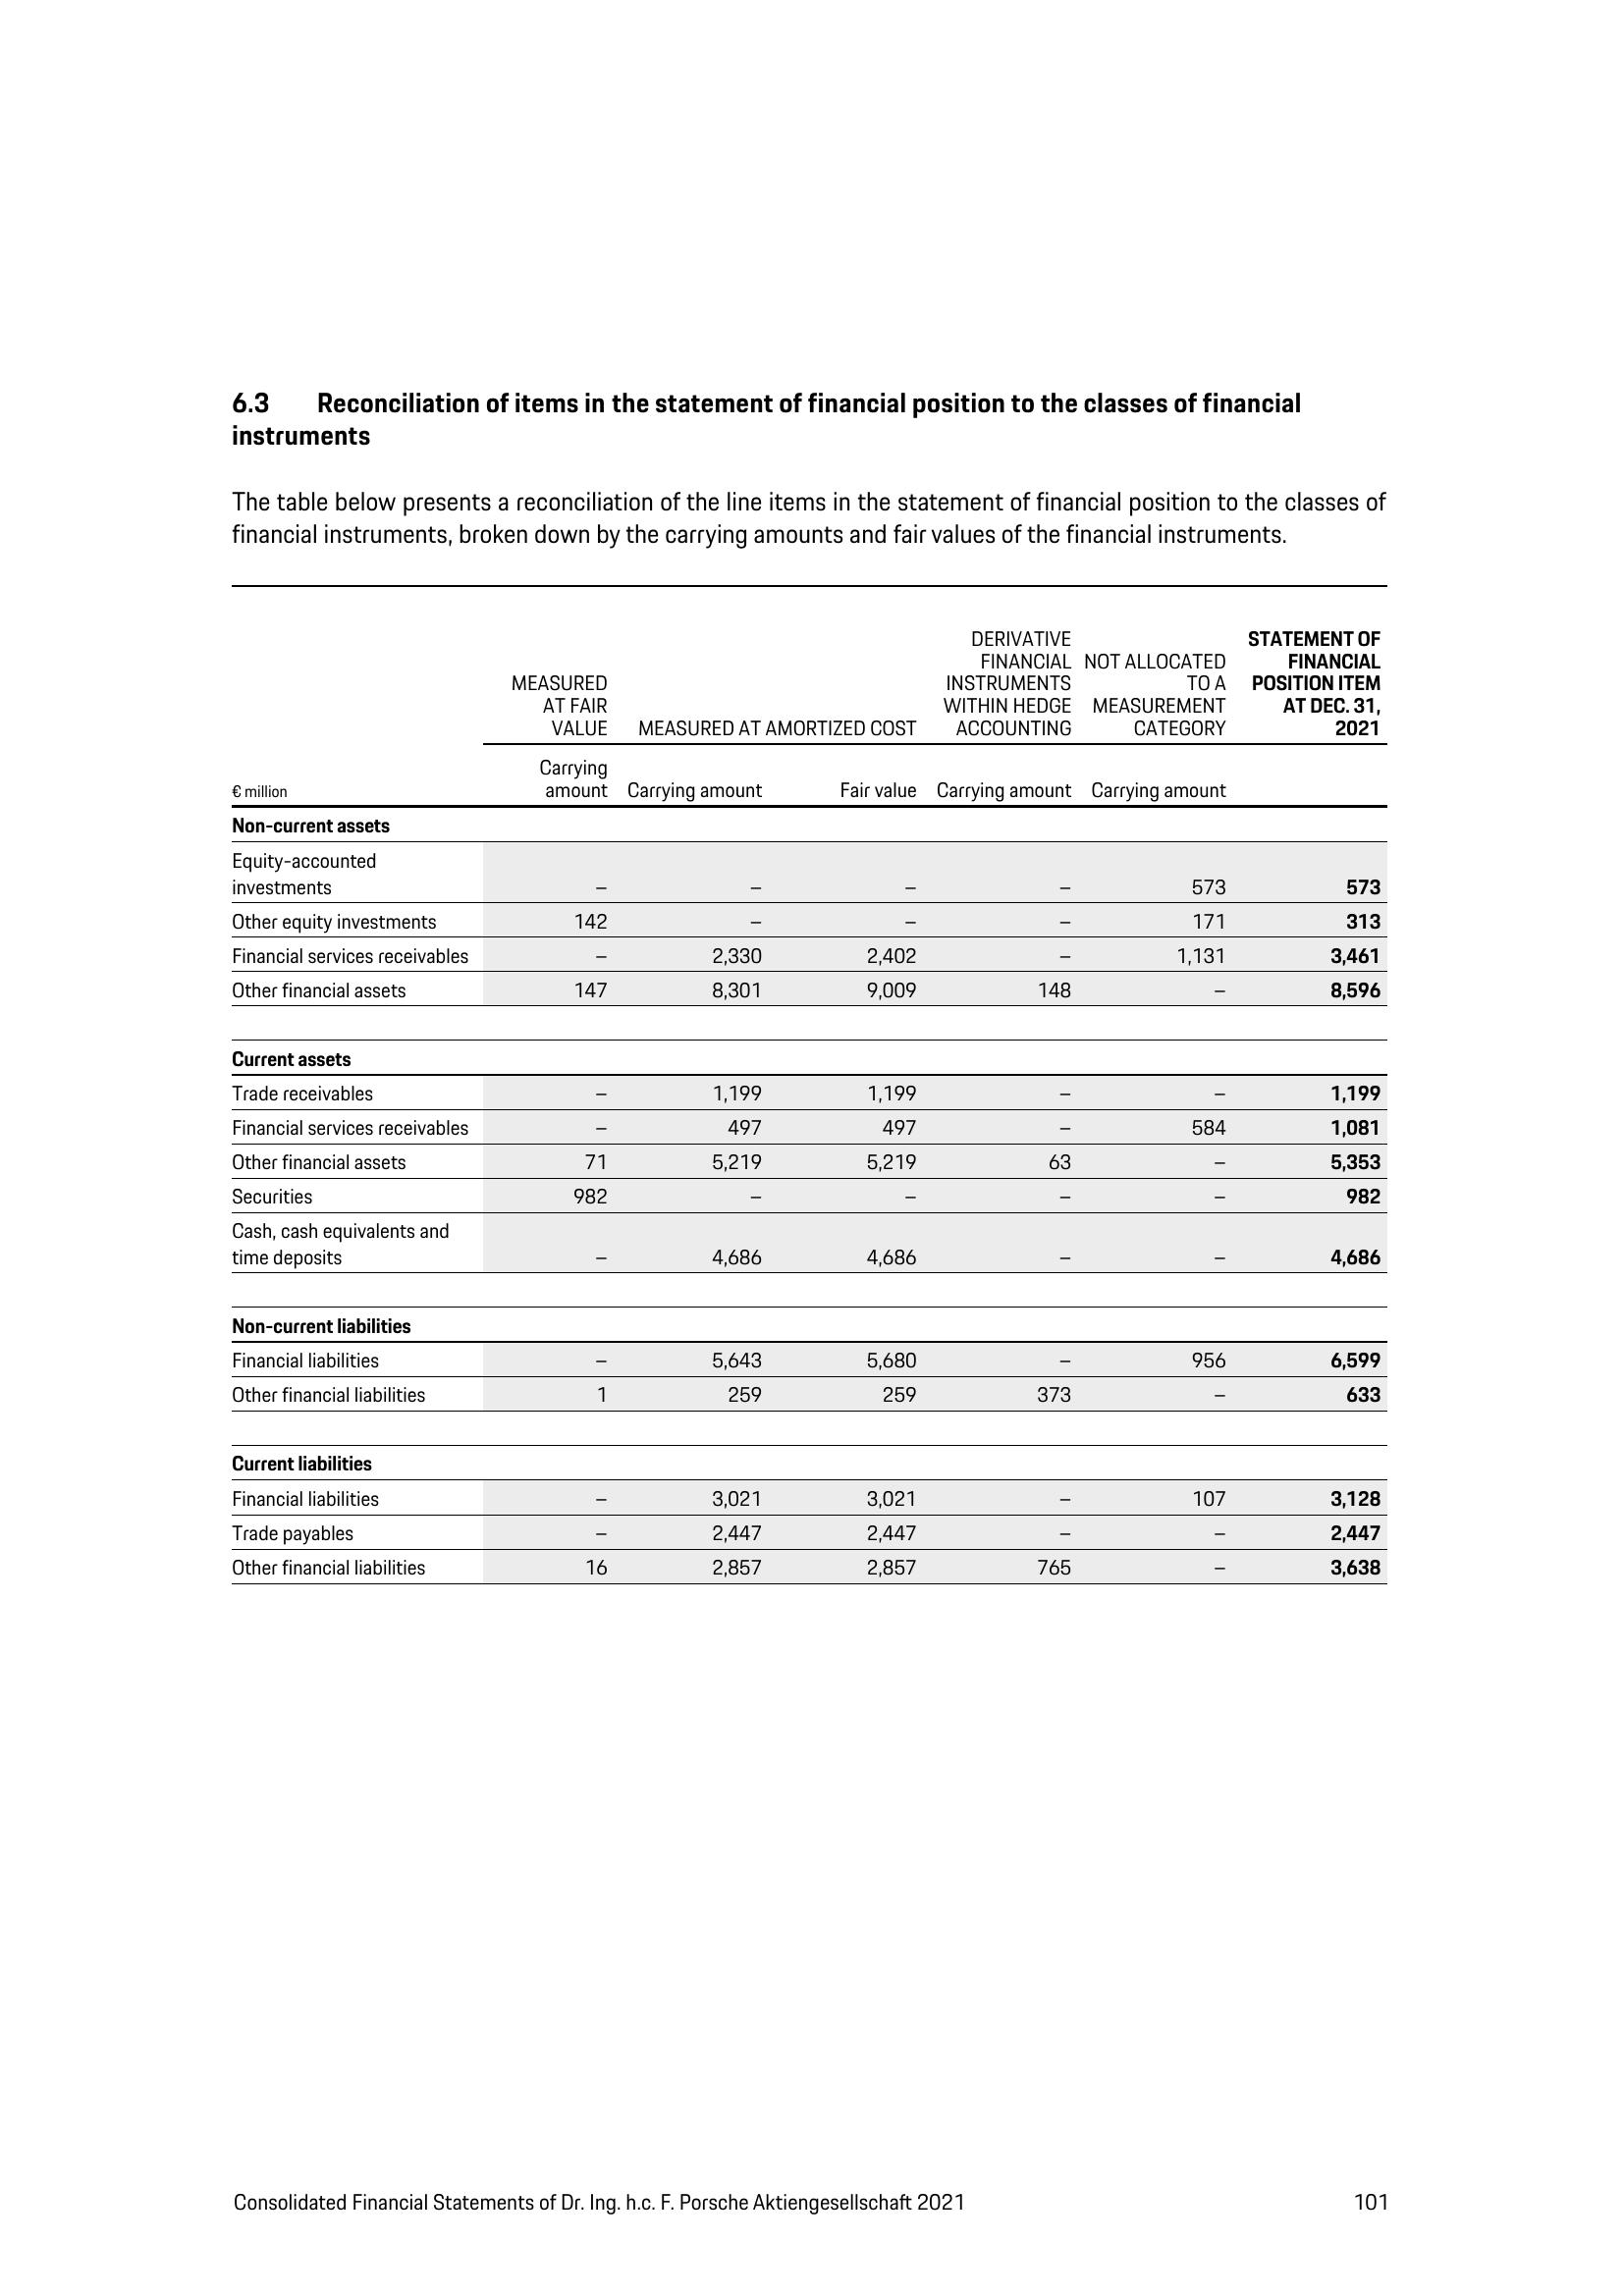Footer: (0, 2152, 1624, 2296)
Header: (0, 0, 1624, 228)
Table: (204, 578, 1425, 1634)
